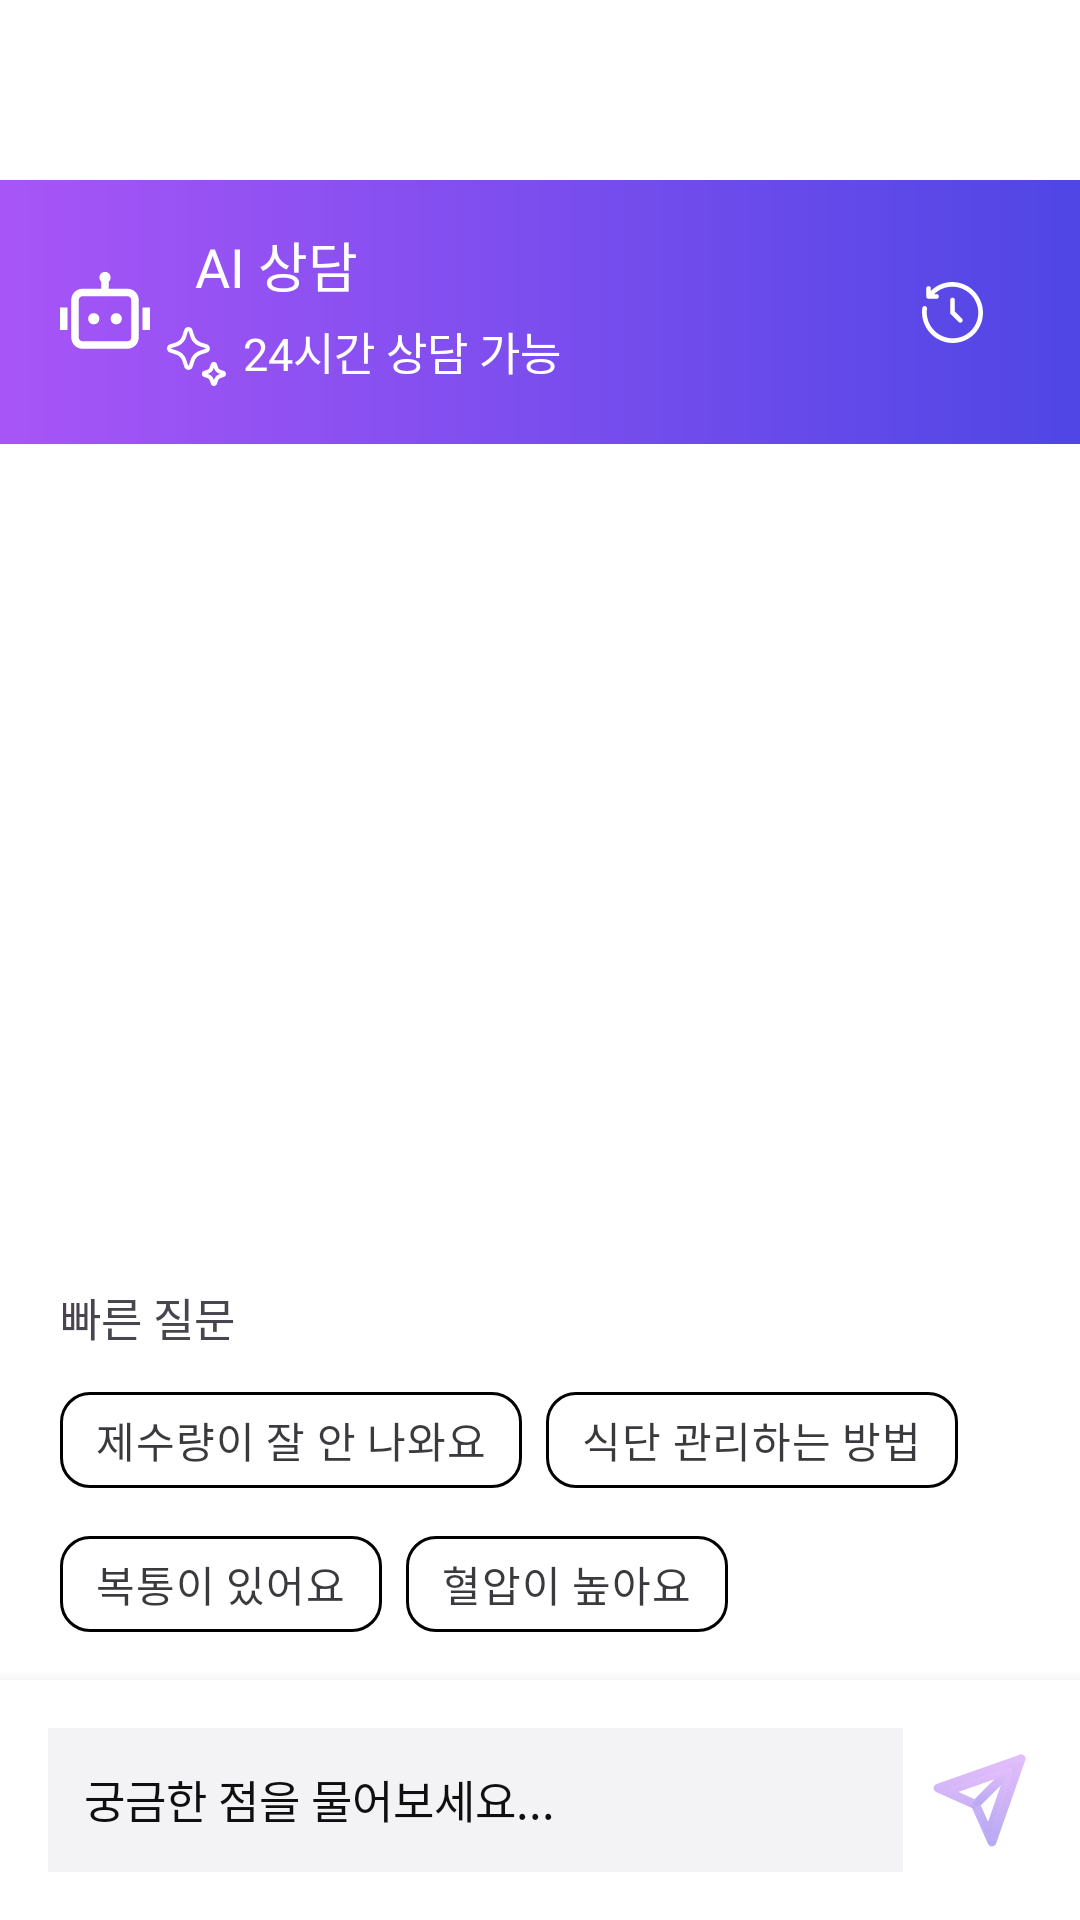

Where icons sit on this 1080*1920 app screen, as (x1, y1, x2, y2):
history sv: (922, 282, 983, 343)
robot sv: (60, 272, 150, 349)
sparkle sv: (167, 327, 226, 386)
전송: (933, 1754, 1026, 1847)
